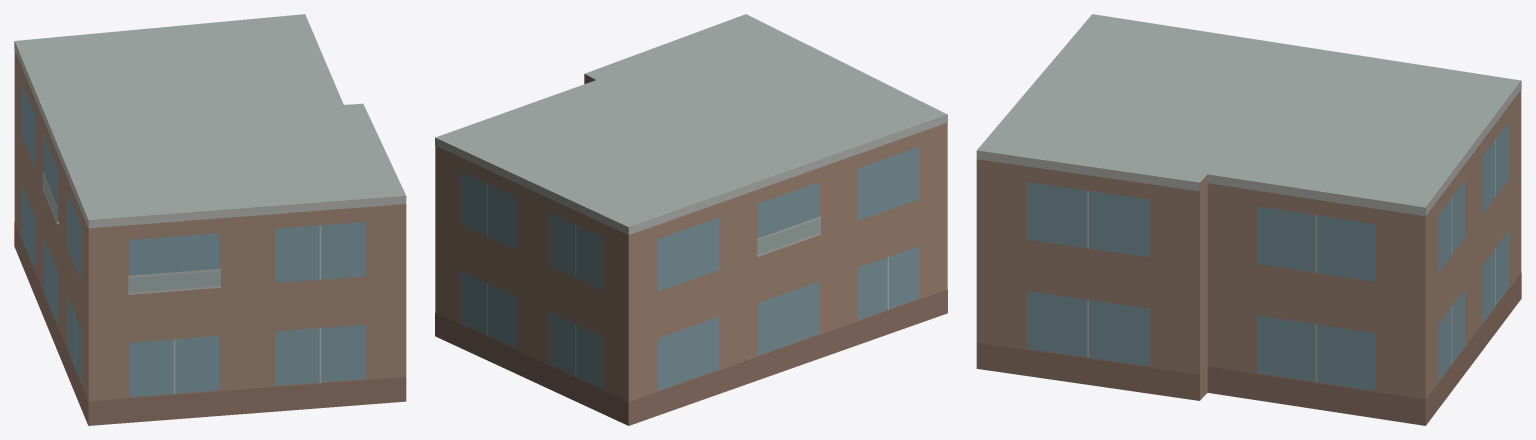
File: survey-upis-32723651.glb
3 renders of one model, left to right at view 1: azimuth 30°, elevation 25°; view 2: azimuth 150°, elevation 25°; view 3: azimuth 270°, elevation 25°, orthographic. The views are drawn at different scales.
Visible parts, largest first — view 1: survey-upis-32723651.tmp; view 2: survey-upis-32723651.tmp; view 3: survey-upis-32723651.tmp.
Part boxes in pixels (x1,y1,x2,y2): survey-upis-32723651.tmp: (14, 14, 406, 425); survey-upis-32723651.tmp: (435, 14, 947, 425); survey-upis-32723651.tmp: (976, 14, 1521, 425).
Bounding box in the file's own units: 11.61 × 6.1 × 13.81.
